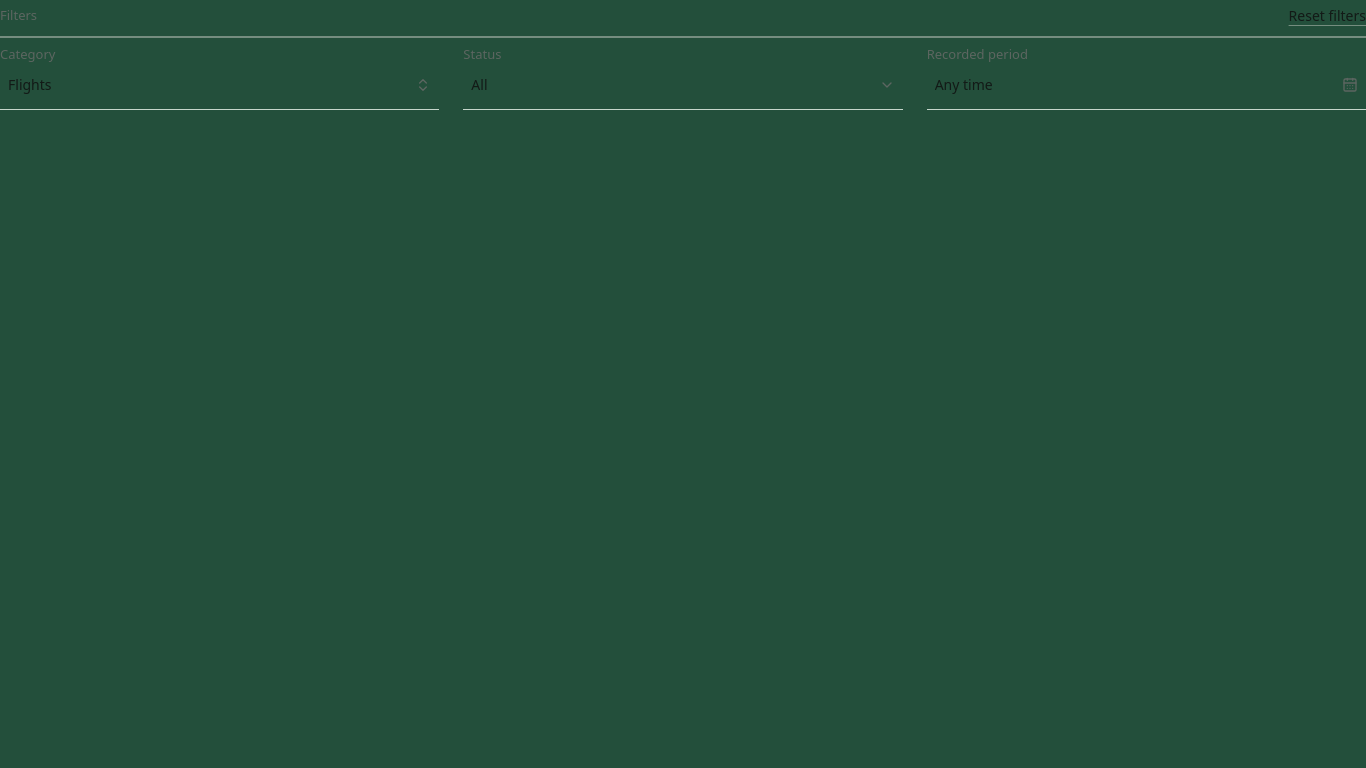
Test case: the filter controls › clears the category through the list’s own all entry
This screenshot has width=1366, height=768.
Click the button named "category". click: [30, 84]
box: left=0, top=65, right=439, bottom=105
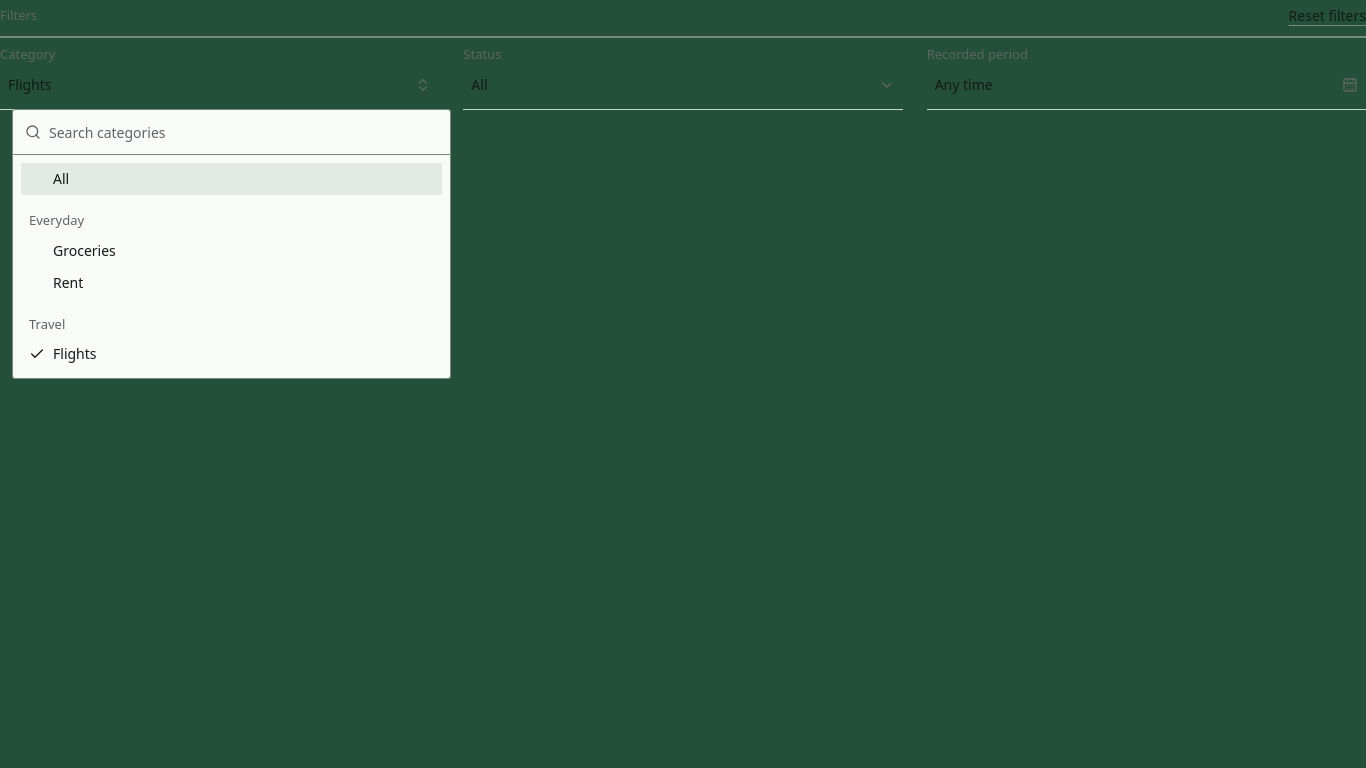
Click the option "All". click: [61, 178]
box: left=21, top=163, right=442, bottom=195
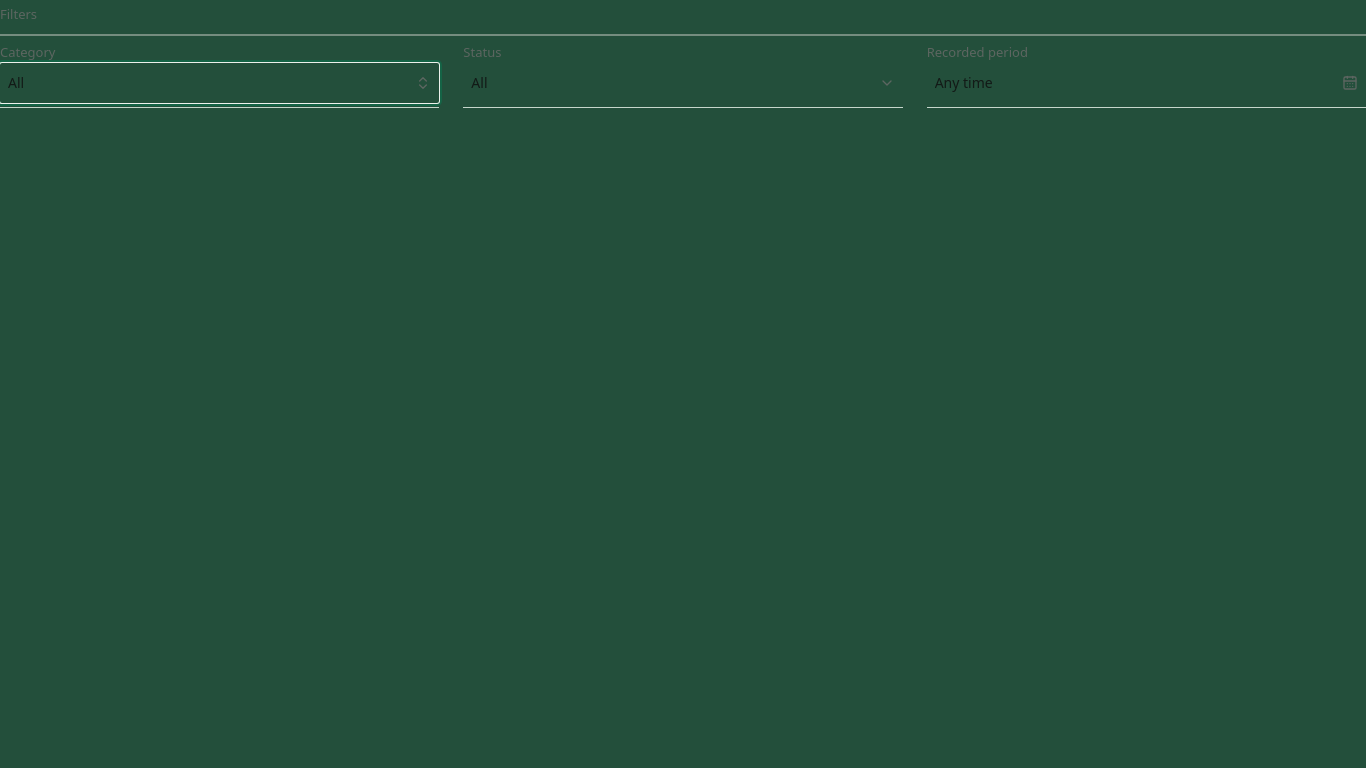
Check: the button named "category" reads "All", box left=0, top=63, right=439, bottom=103
